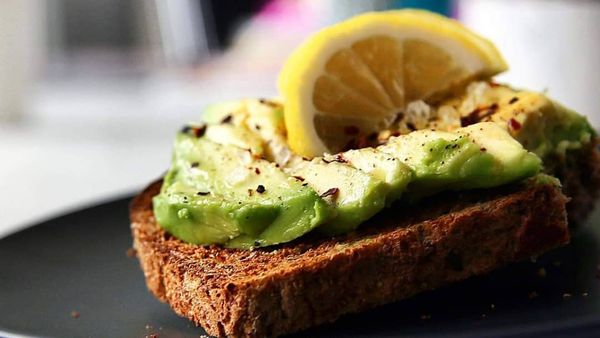soup: (133, 9, 587, 333)
